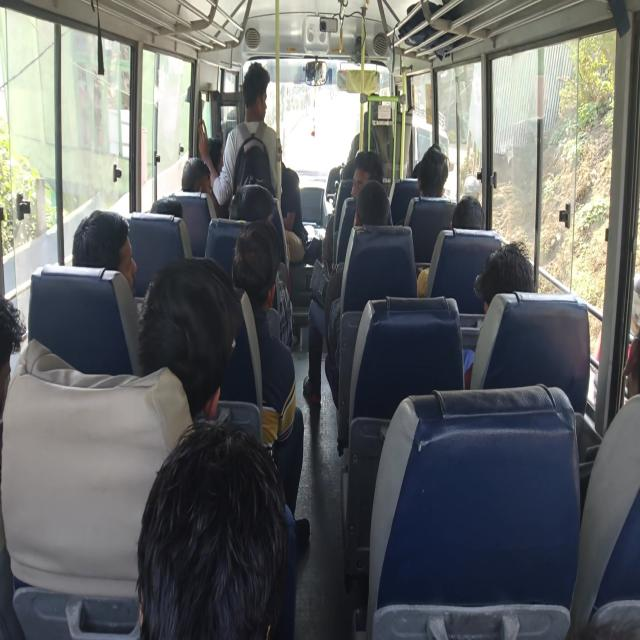person: (136, 255, 308, 546), (136, 417, 296, 639), (228, 219, 309, 543), (302, 150, 392, 406), (568, 331, 639, 638), (197, 62, 306, 260), (136, 256, 244, 423), (228, 183, 294, 349), (209, 62, 283, 209), (462, 240, 535, 388), (416, 194, 485, 298), (72, 209, 137, 296), (474, 239, 535, 315), (404, 143, 451, 225), (0, 296, 27, 426), (181, 156, 228, 218), (228, 183, 275, 224), (415, 143, 450, 198), (354, 180, 392, 227), (450, 194, 484, 230), (181, 156, 211, 193), (149, 195, 183, 218)
